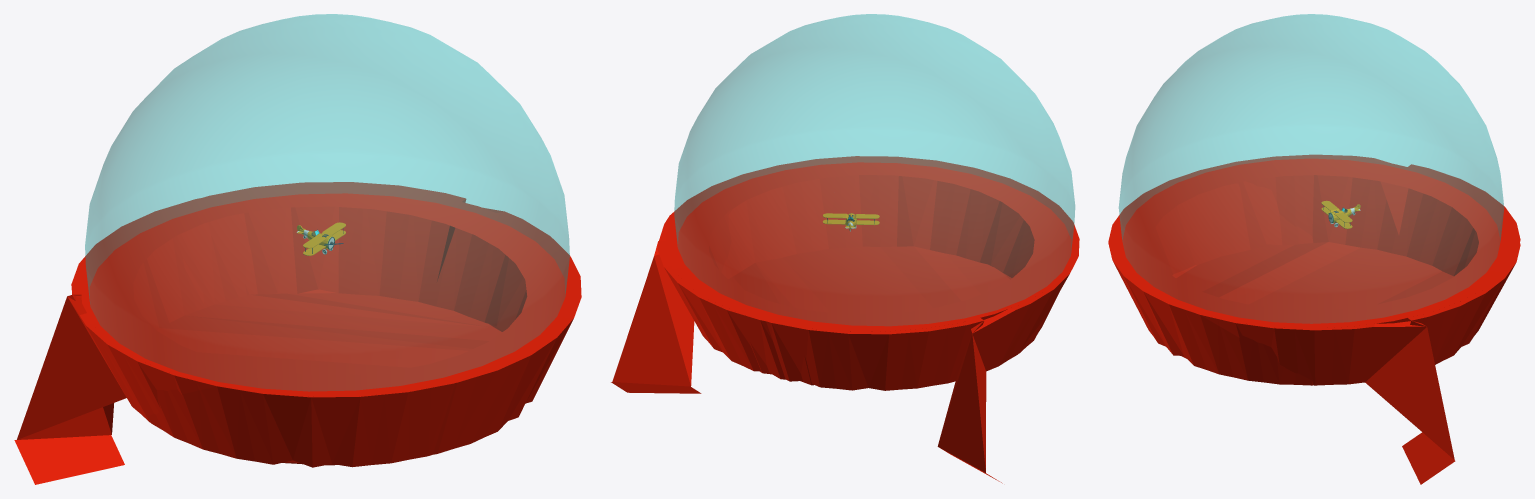
The picture shows the model from 3 angles, left to right: view 1: azimuth 30°, elevation 25°; view 2: azimuth 150°, elevation 25°; view 3: azimuth 270°, elevation 25°; orthographic projection. The views are drawn at different scales.
Parts seen in each view (by area): view 1: Sphere, Wall, Toy base.001, plane_chair; view 2: Sphere, Wall, Toy base.001, plane_chair; view 3: Sphere, Wall, Toy base.001, plane_chair.
Part boxes in pixels (x1,y1,x2,y2): Sphere: [85, 14, 569, 391]; Wall: [14, 182, 581, 484]; Toy base.001: [157, 289, 501, 462]; plane_chair: [296, 222, 345, 255]; Sphere: [674, 14, 1075, 325]; Wall: [611, 156, 1079, 483]; Toy base.001: [728, 246, 1011, 314]; plane_chair: [823, 213, 879, 231]; Sphere: [1118, 14, 1504, 323]; Wall: [1108, 154, 1520, 484]; Toy base.001: [1172, 242, 1453, 309]; plane_chair: [1321, 200, 1360, 228].
Bounding box in the file's own units: 28.33 × 26.26 × 27.24.
